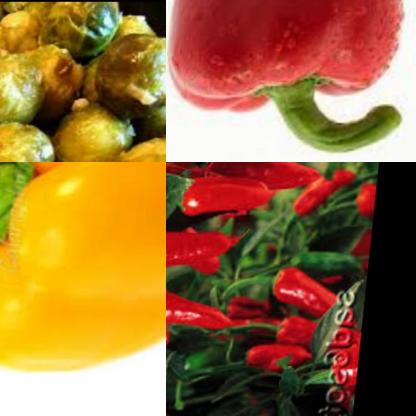bell pepper: (166, 0, 416, 159), (0, 162, 166, 371)
brus capusta: (0, 0, 166, 162)
hot pepper: (175, 166, 289, 223), (270, 262, 359, 326), (166, 274, 248, 334), (203, 162, 326, 198), (242, 328, 329, 376), (166, 217, 241, 266), (290, 166, 356, 214), (327, 322, 367, 400), (276, 307, 348, 347), (348, 224, 375, 273), (352, 181, 379, 220)
